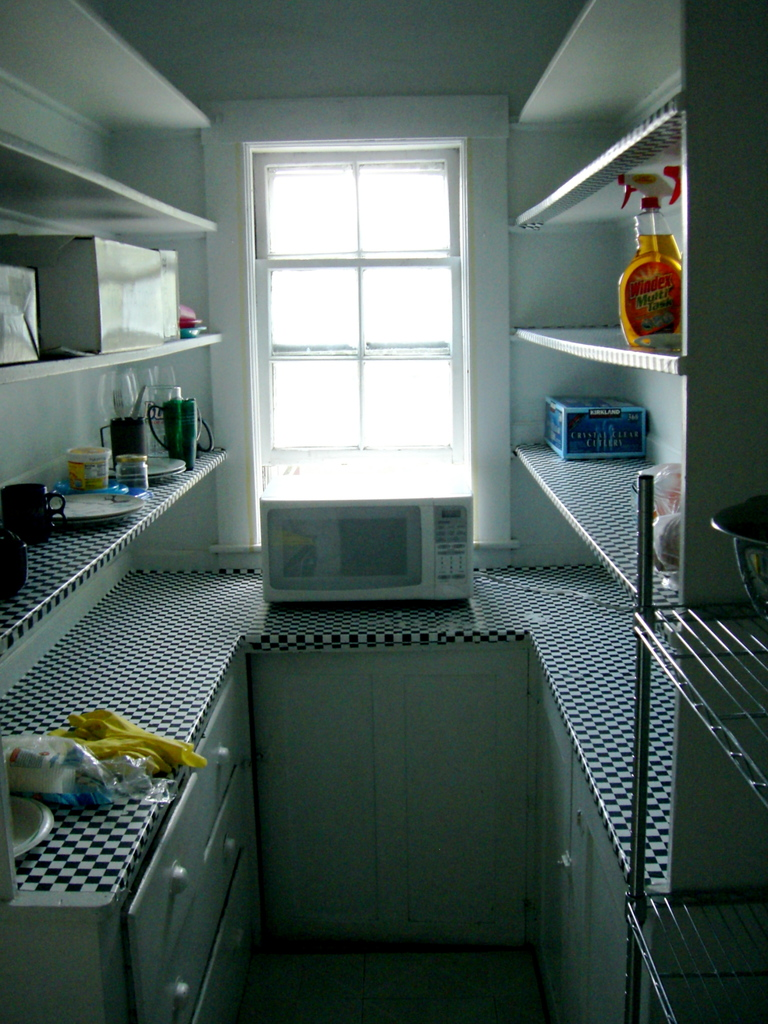Cabinetry: (147, 582, 630, 988), (121, 669, 273, 1023)
